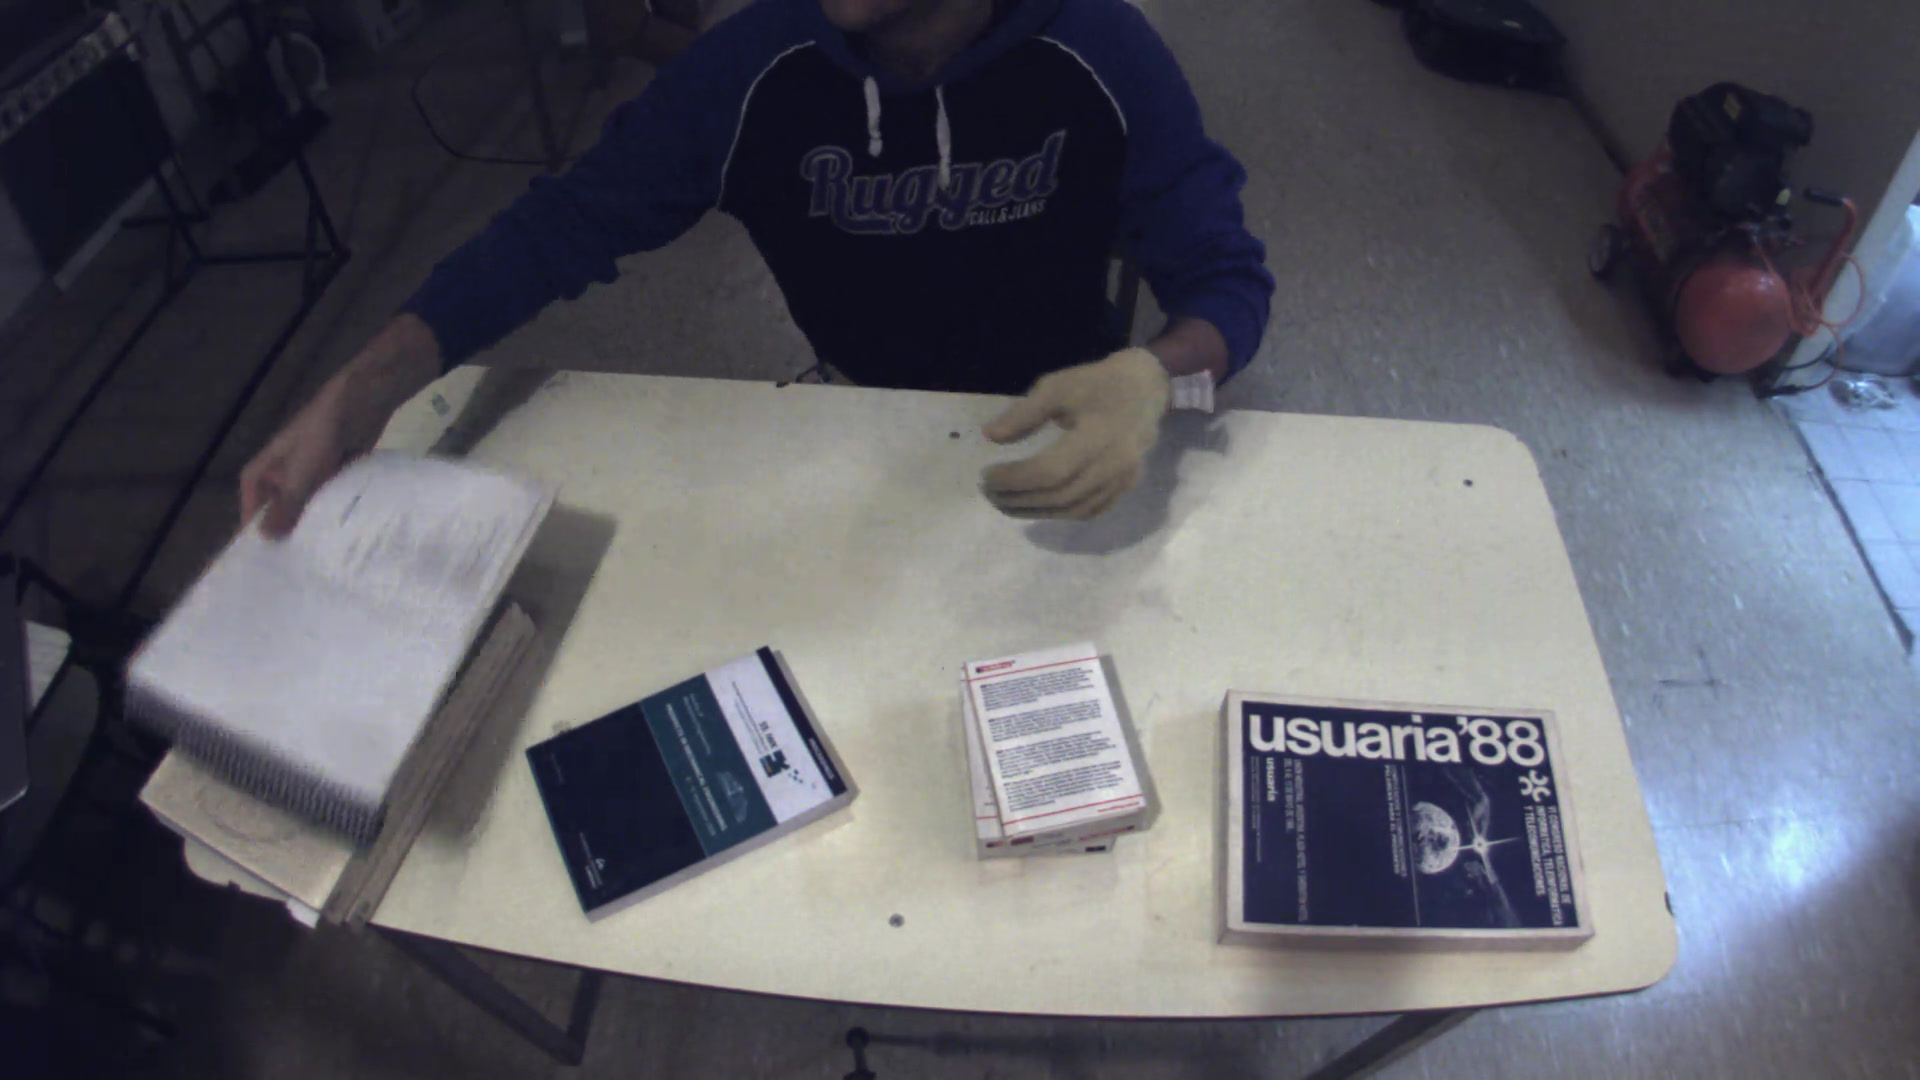hand: (965, 328, 1185, 534)
